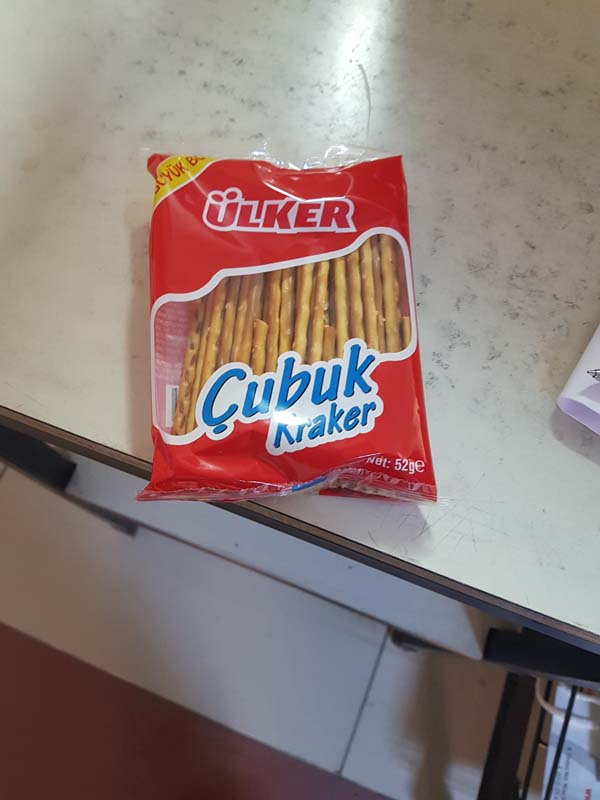eticubuk: (152, 154, 430, 500)
